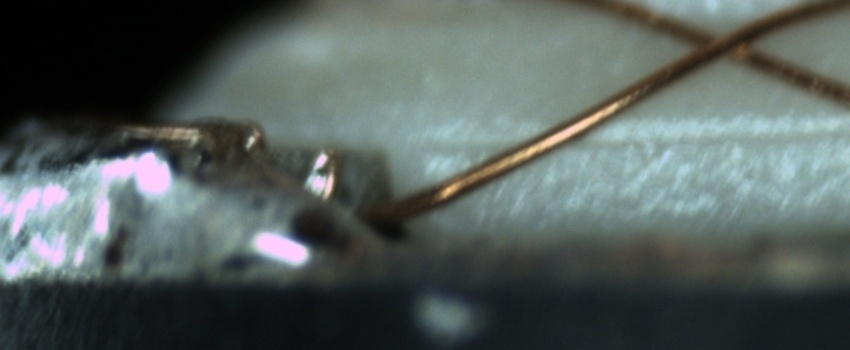CL: (677, 11, 781, 74)
DL: (421, 104, 849, 174)
TE: (108, 112, 343, 204)
